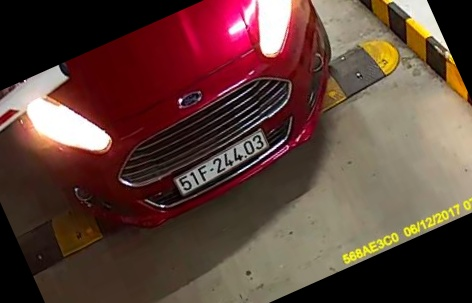plate: (174, 129, 275, 204)
